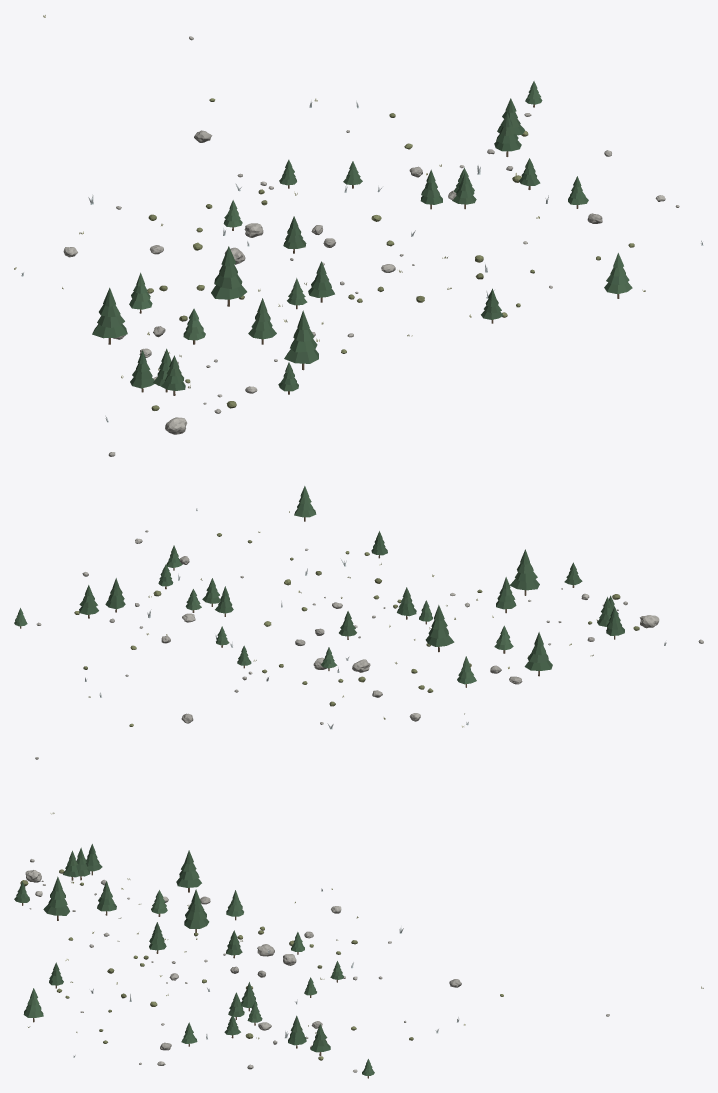
Rendered from coast_land_scatter_c09_16.glb.
3 views of the same model, one above another, from view 1: azimuth 30°, elevation 25°; view 2: azimuth 150°, elevation 25°; view 3: azimuth 270°, elevation 25° (orthographic). The views are drawn at different scales.
Visible parts, largest first — view 1: coast_land_scatter_c09_16; view 2: coast_land_scatter_c09_16; view 3: coast_land_scatter_c09_16.
Part boxes in pixels (left/top/right/bottom): coast_land_scatter_c09_16: left=14, top=15, right=703, bottom=456; coast_land_scatter_c09_16: left=14, top=486, right=703, bottom=814; coast_land_scatter_c09_16: left=14, top=844, right=703, bottom=1078.
Size of the model in its own units: 193 by 23.22 by 235.
